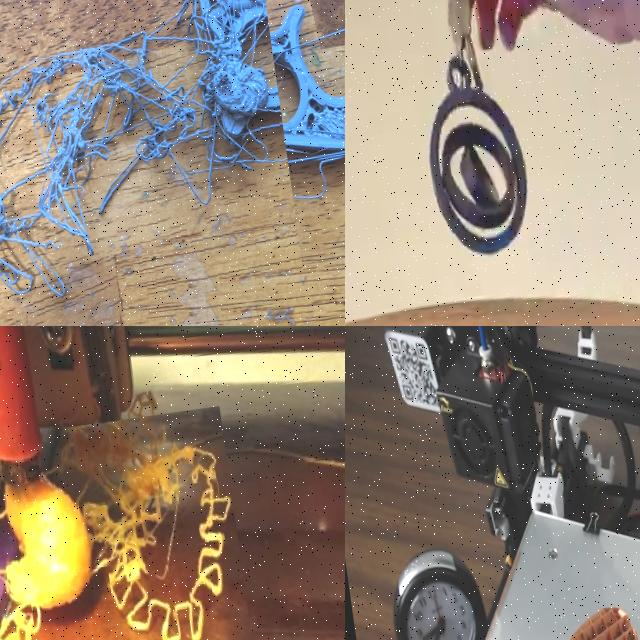spaghetti: (0, 0, 308, 326), (47, 417, 234, 640), (0, 513, 69, 640)
